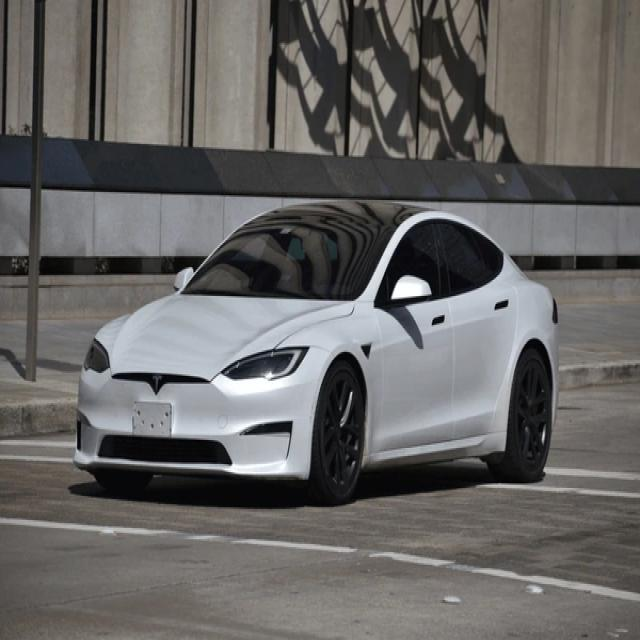tesla: (145, 370, 168, 396)
